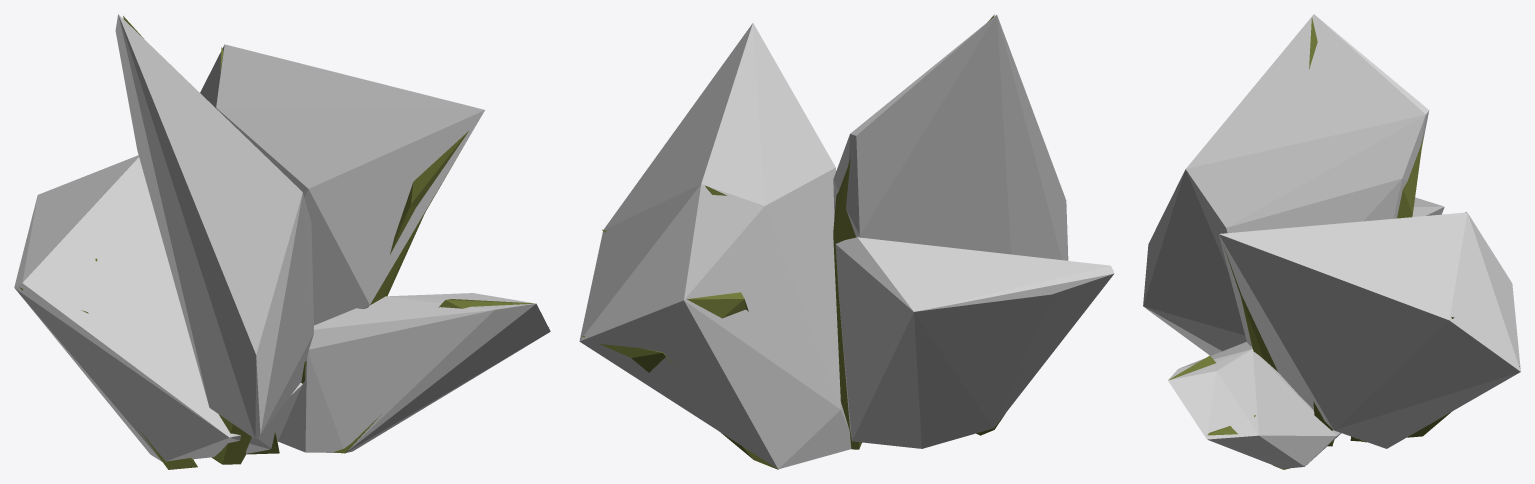
The model's file is SM_Generic_Grass_Patch_02.fbx.
The picture shows the model from 3 angles, left to right: view 1: azimuth 30°, elevation 25°; view 2: azimuth 150°, elevation 25°; view 3: azimuth 270°, elevation 25°; orthographic projection. The views are drawn at different scales.
Visible parts, largest first — view 1: SM_Generic_Grass_Patch_02_ConvexHulls, SM_Generic_Grass_Patch_02; view 2: SM_Generic_Grass_Patch_02_ConvexHulls, SM_Generic_Grass_Patch_02; view 3: SM_Generic_Grass_Patch_02_ConvexHulls, SM_Generic_Grass_Patch_02.
Boxes of the visible parts, x1,y1,x2,y2 form: SM_Generic_Grass_Patch_02_ConvexHulls: (14,14,550,461); SM_Generic_Grass_Patch_02: (19,16,534,469); SM_Generic_Grass_Patch_02_ConvexHulls: (579,15,1114,469); SM_Generic_Grass_Patch_02: (581,14,1005,469); SM_Generic_Grass_Patch_02_ConvexHulls: (1143,14,1520,468); SM_Generic_Grass_Patch_02: (1169,17,1519,469).
Size of the model in its own units: 130 by 113 by 118.
Materials: 2 (1 with a texture image).
